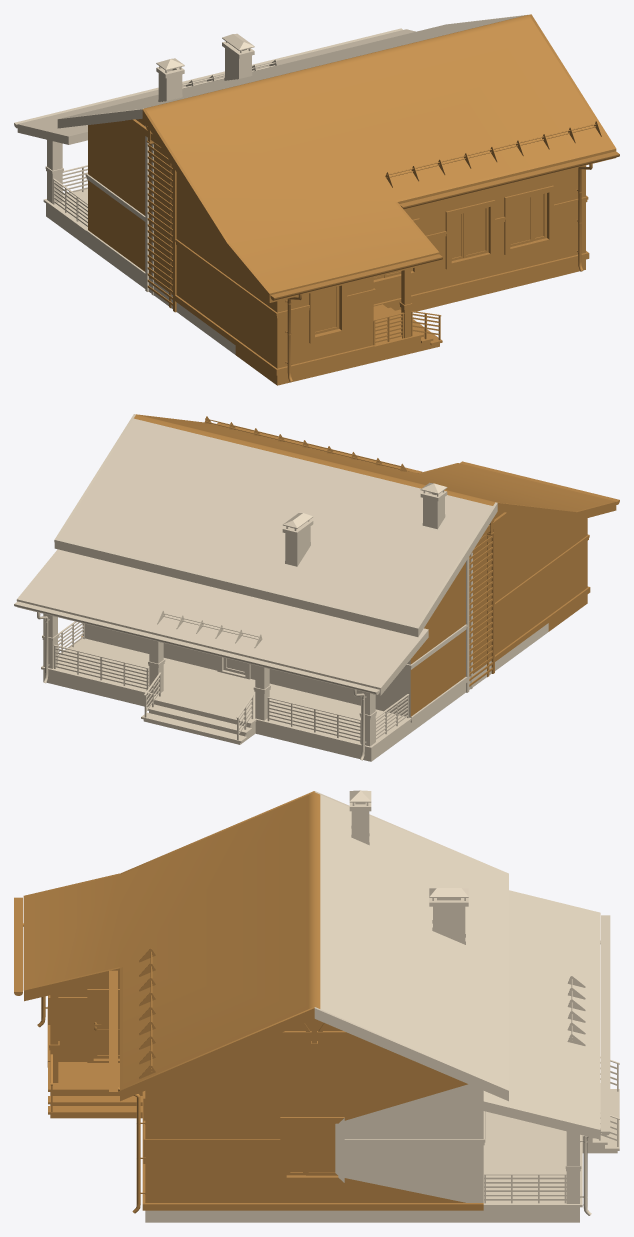
The model's file is Cottage_MultiPart.fbx.
The picture shows the model from 3 angles, top to bottom: view 1: azimuth 30°, elevation 25°; view 2: azimuth 150°, elevation 25°; view 3: azimuth 270°, elevation 25°; orthographic projection. The views are drawn at different scales.
Visible parts, largest first — view 1: Cottage_Free; view 2: Cottage_Free; view 3: Cottage_Free.
Boxes of the visible parts, left/top/right/bottom form: Cottage_Free: left=14, top=14, right=619, bottom=385; Cottage_Free: left=14, top=414, right=619, bottom=761; Cottage_Free: left=14, top=790, right=619, bottom=1222.
Bounding box in the file's own units: 1244 × 675 × 1465.
